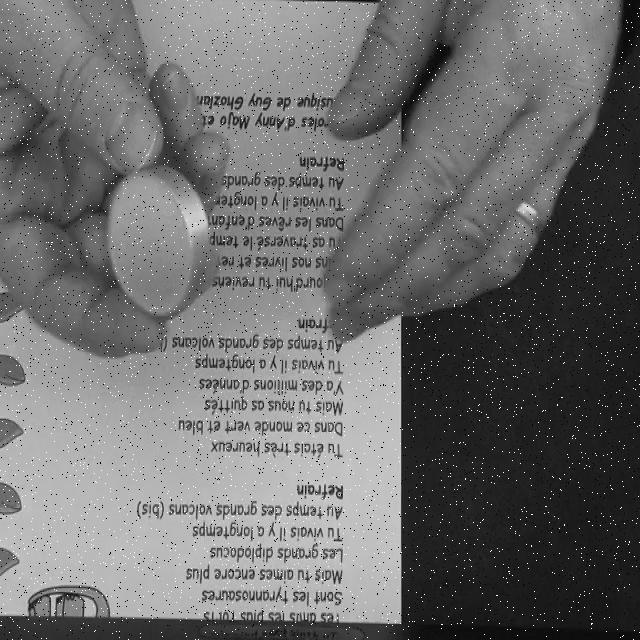round: (107, 167, 209, 318)
